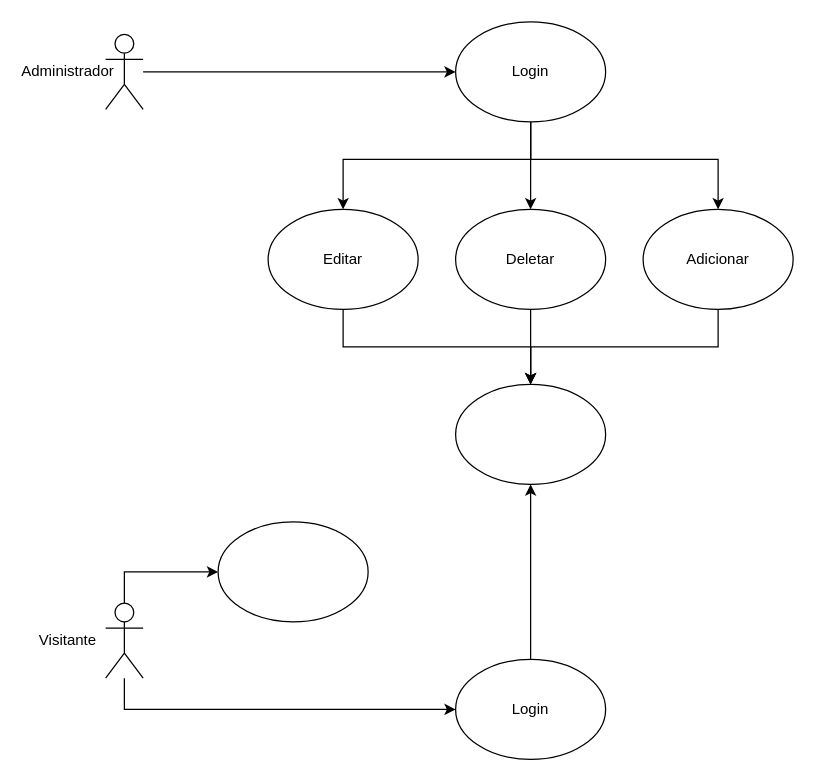
This 815x781 diagram has some shape labels left out. Each missing label, with the centre of its shape:
acessar informação: (x=530, y=433)
Cadastro: (x=292, y=571)
